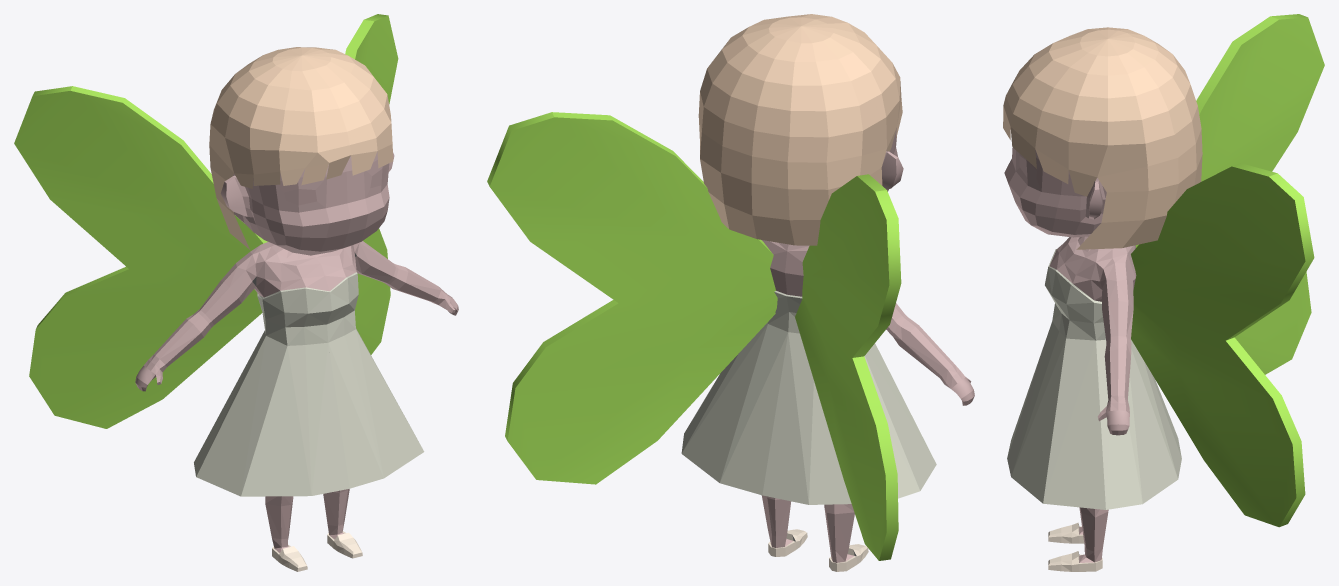
Rendered from Kronii.fbx.
3 views of the same model, side by side, from view 1: azimuth 30°, elevation 25°; view 2: azimuth 150°, elevation 25°; view 3: azimuth 270°, elevation 25° (orthographic). The views are drawn at different scales.
Parts seen in each view (by area): view 1: Box003, Box001, OilTank001, Plane003, Box002; view 2: Box002, OilTank001, Box001, Box003, Plane003; view 3: Box002, Box001, OilTank001, Box003, Plane003.
Part boxes in pixels (x1,y1,x2,y2): Box003: (14, 86, 267, 428); Box001: (135, 241, 458, 571); OilTank001: (209, 47, 393, 249); Plane003: (220, 151, 394, 255); Box002: (345, 14, 398, 354); Box002: (487, 112, 777, 484); OilTank001: (698, 14, 902, 245); Box001: (681, 240, 974, 571); Box003: (795, 174, 901, 560); Plane003: (881, 128, 903, 191); Box002: (1131, 163, 1314, 527); Box001: (1007, 236, 1181, 571); OilTank001: (1003, 27, 1202, 249); Box003: (1135, 14, 1324, 374); Plane003: (1004, 147, 1106, 237).
Size of the model in its own units: 49.12 by 60.4 by 34.24.
